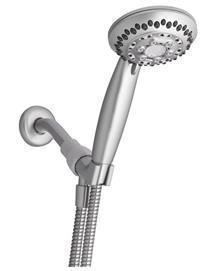Ducha: (12, 0, 199, 270)
